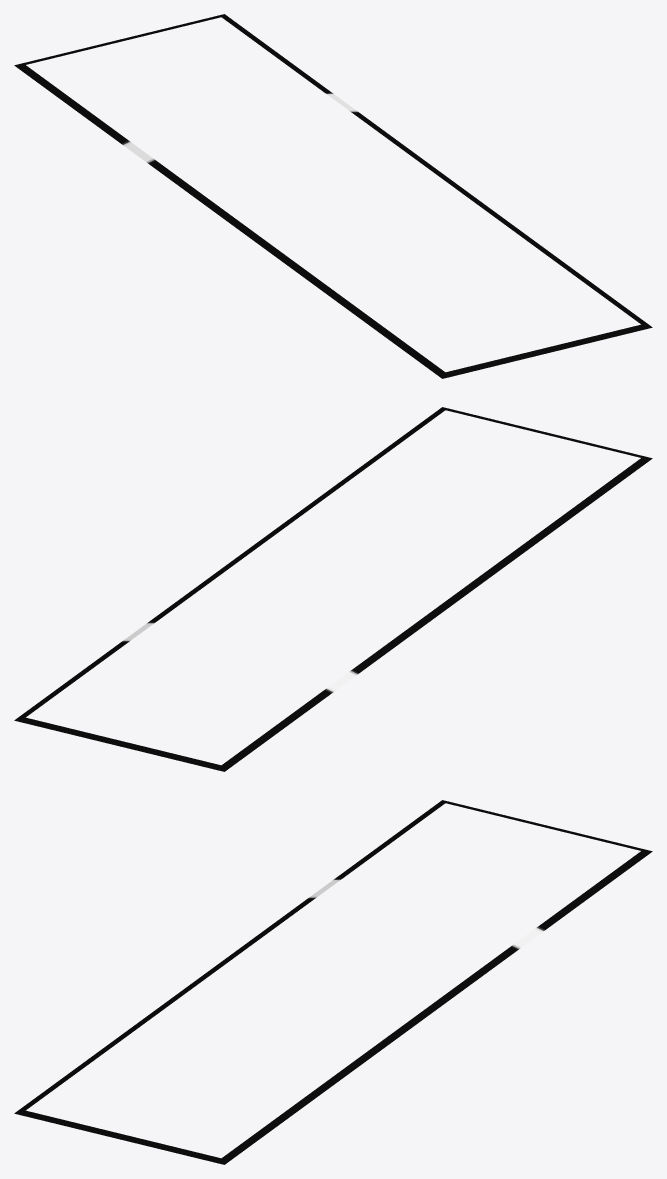
Rendered from GB_Wall_Carpet_Rubber.fbx.
3 views of the same model, one above another, from view 1: azimuth 30°, elevation 25°; view 2: azimuth 150°, elevation 25°; view 3: azimuth 330°, elevation 25° (orthographic).
Parts seen in each view (by area): view 1: GB_Wall_Carpet_Rubber; view 2: GB_Wall_Carpet_Rubber; view 3: GB_Wall_Carpet_Rubber.
Boxes of the visible parts, x1=… form: GB_Wall_Carpet_Rubber: x1=14, y1=14, x2=652, y2=378; GB_Wall_Carpet_Rubber: x1=14, y1=407, x2=652, y2=771; GB_Wall_Carpet_Rubber: x1=14, y1=800, x2=652, y2=1164.
Size of the model in its own units: 233 by 1.81 by 822.
